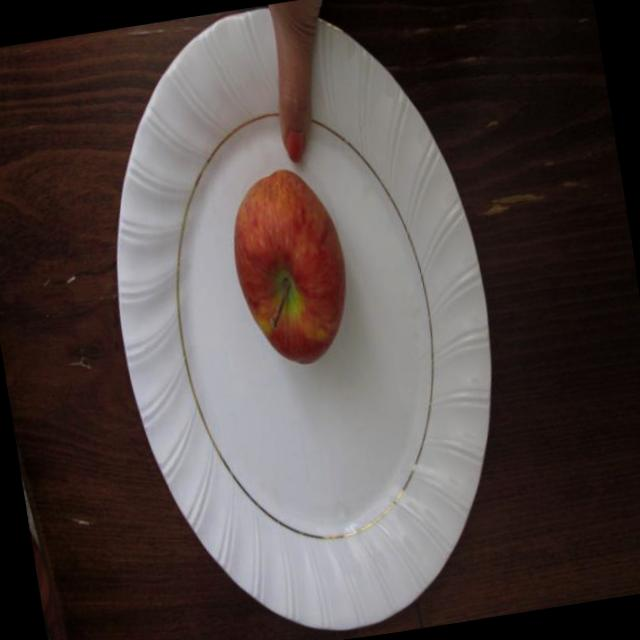Apple: (216, 158, 362, 382)
Finger: (260, 51, 342, 172)
